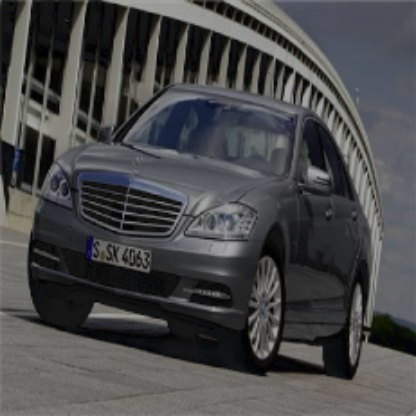Vehicle: (26, 84, 374, 383)
